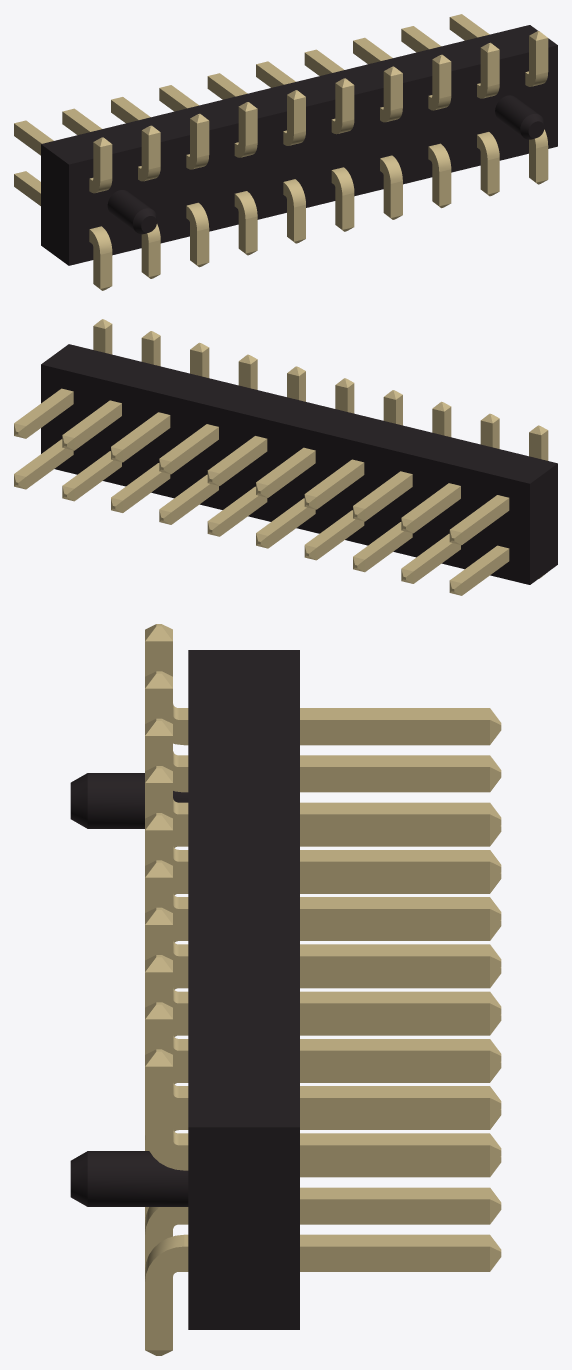
File: sfe-2x10_2.0mm_header_smd_peg-1.0mm.glb
The picture shows the model from 3 angles, top to bottom: view 1: azimuth 30°, elevation 25°; view 2: azimuth 150°, elevation 25°; view 3: azimuth 270°, elevation 25°; orthographic projection. The views are drawn at different scales.
Parts seen in each view (by area): view 1: 0_0_0_0, 0.5833333333333334_0.5_0.25_0; view 2: 0_0_0_0, 0.5833333333333334_0.5_0.25_0; view 3: 0.5833333333333334_0.5_0.25_0, 0_0_0_0.
Part boxes in pixels (<box>): 0_0_0_0: <box>41,25,557,265</box>; 0.5833333333333334_0.5_0.25_0: <box>14,14,548,290</box>; 0_0_0_0: <box>41,344,557,584</box>; 0.5833333333333334_0.5_0.25_0: <box>14,319,548,595</box>; 0.5833333333333334_0.5_0.25_0: <box>145,624,501,1355</box>; 0_0_0_0: <box>70,650,299,1329</box>.
Size of the model in its own units: 2.02 by 0.6001 by 0.77.
